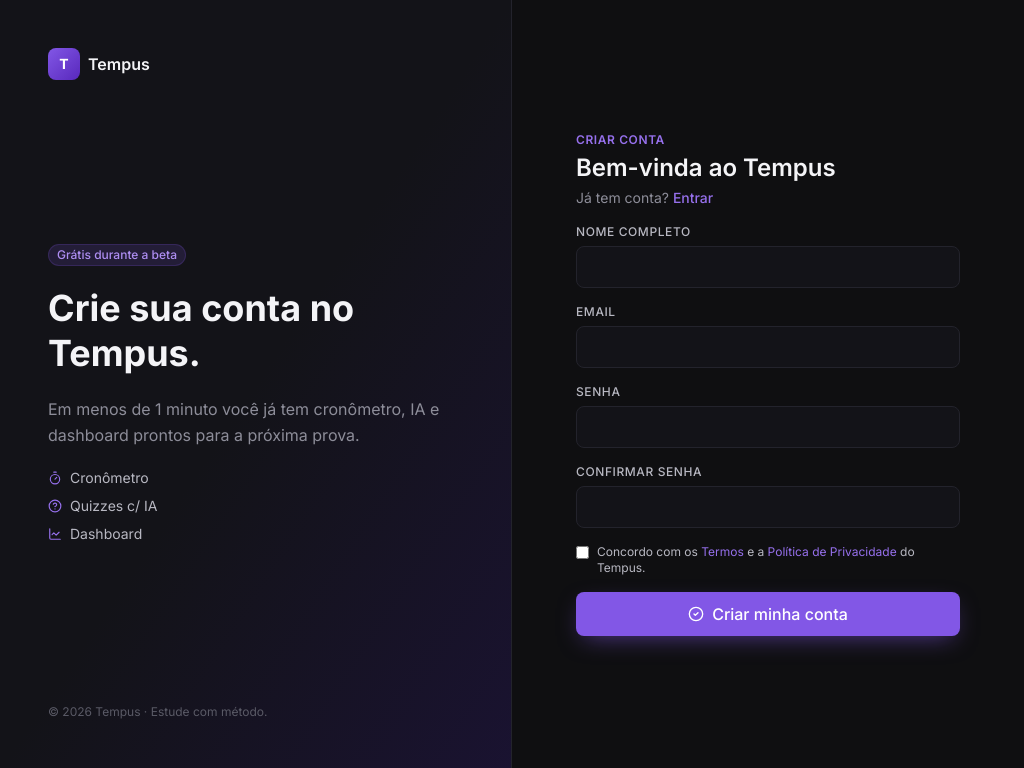
it: RegisterPage › exige aceitar os termos para enviar o formulário
The image size is (1024, 768).
In the field labelled "Nome completo": (768, 267) [576, 246, 960, 288], type "Yago"
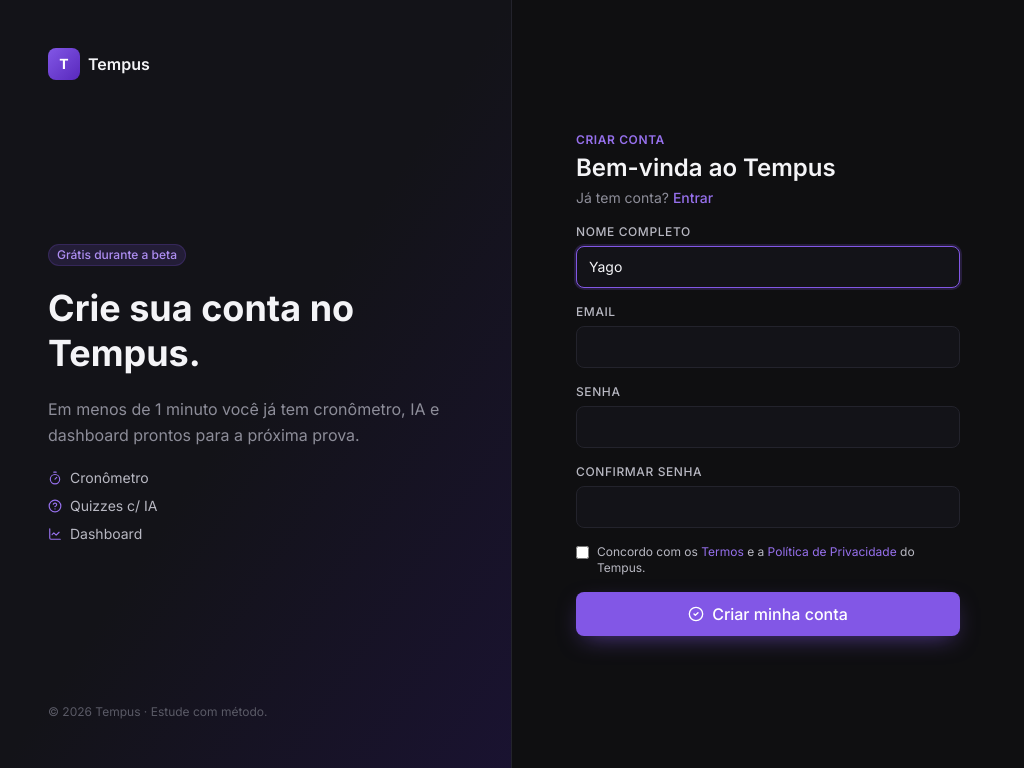
In the field labelled "Email": (768, 347) [576, 326, 960, 368], type "yago@tempus.dev"
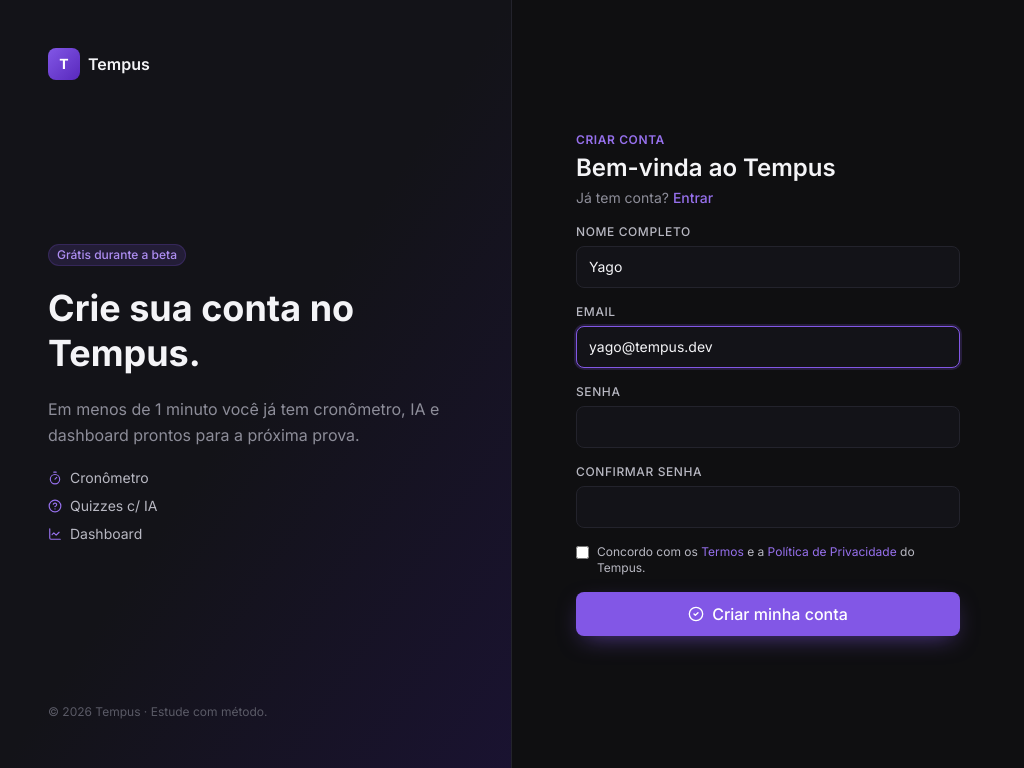
In the password field labelled "Senha": (768, 427) [576, 406, 960, 448], type "Abc123!@"
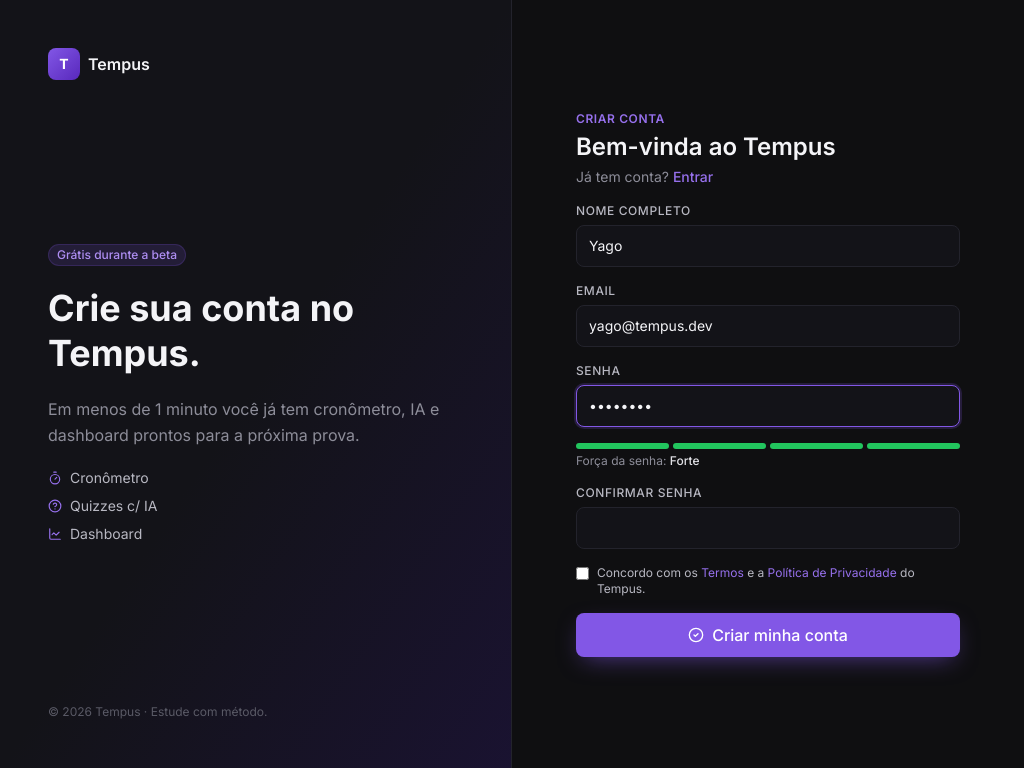
In the password field labelled "Confirmar senha": (768, 528) [576, 507, 960, 549], type "Abc123!@"
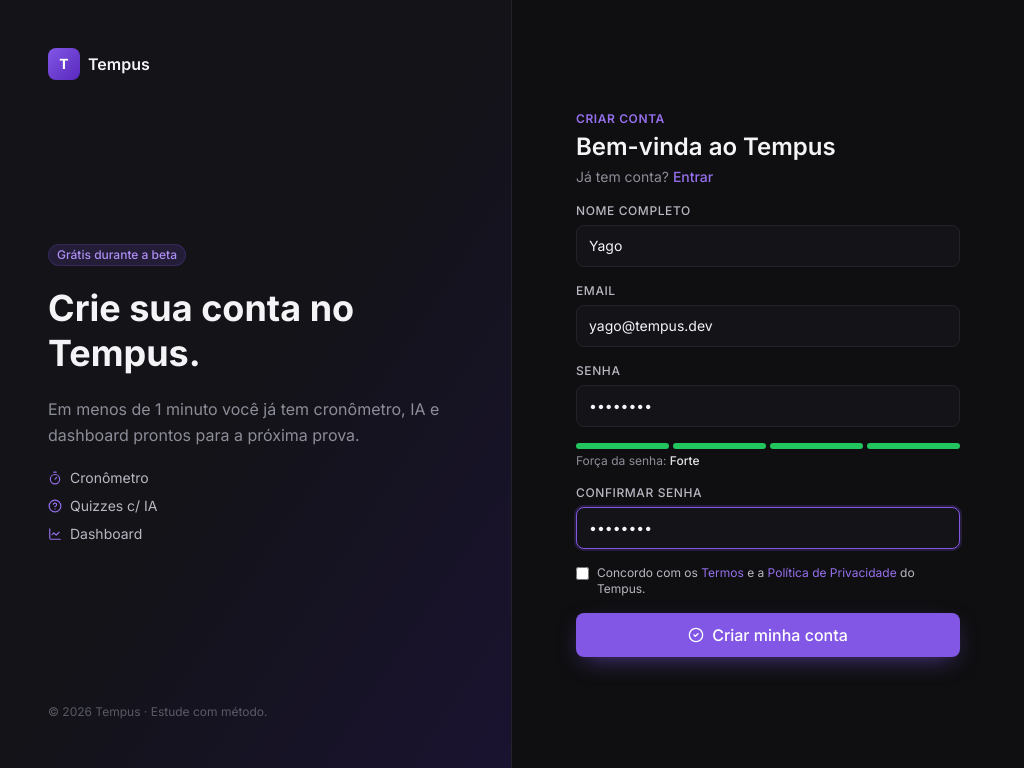
Click the button "Criar minha conta": click(768, 635) [576, 613, 960, 657]
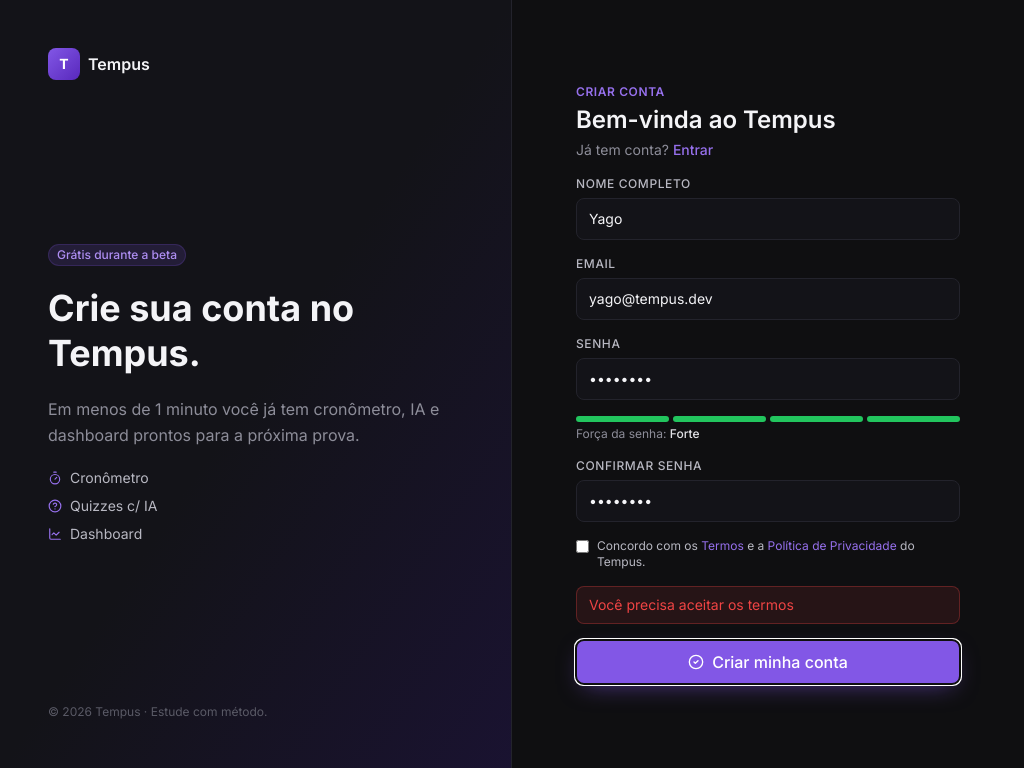
Now the text "Você precisa aceitar os termos" is shown, box [576, 586, 960, 624]
